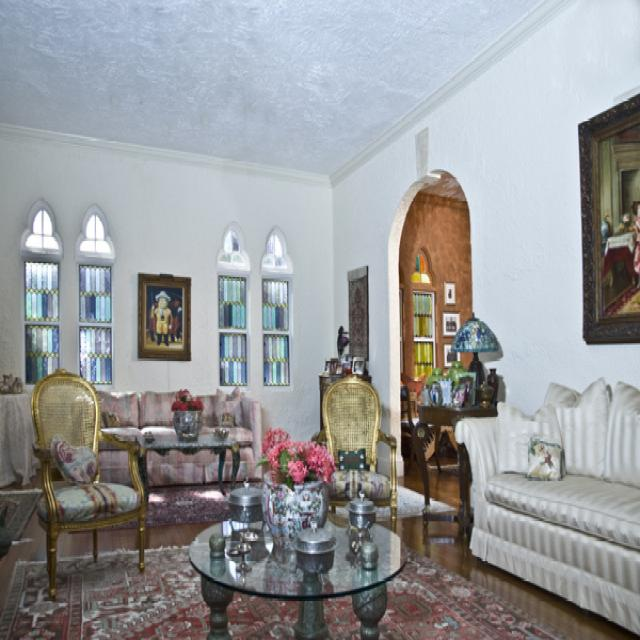chair: (30, 369, 148, 600), (324, 377, 401, 526)
couch: (458, 378, 637, 633), (98, 387, 263, 484)
dining table: (192, 504, 410, 639)
potted plant: (171, 389, 204, 442)
vase: (261, 469, 329, 567), (173, 411, 204, 444), (487, 369, 499, 403)
